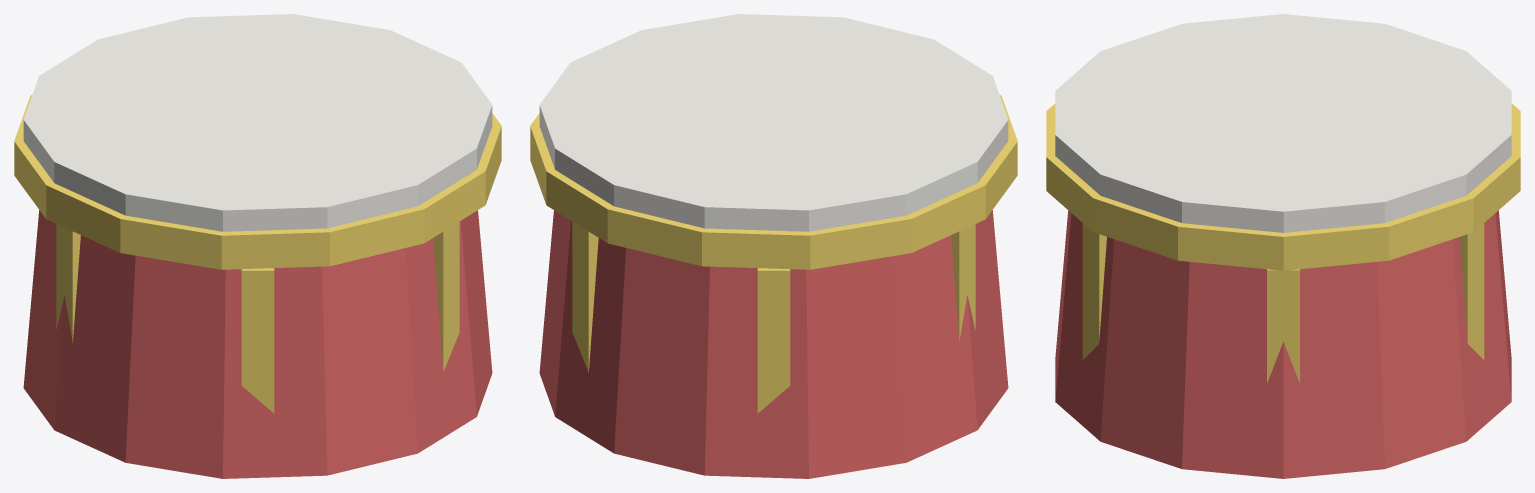
File: travelling-circus-and-big-top-circus-pedestal-c0e56fe4__36253.glb
The picture shows the model from 3 angles, left to right: view 1: azimuth 30°, elevation 25°; view 2: azimuth 150°, elevation 25°; view 3: azimuth 270°, elevation 25°; orthographic projection.
Parts seen in each view (by area): view 1: circus-pedestal-stripe, circus-pedestal-canvas, circus-pedestal-gold; view 2: circus-pedestal-stripe, circus-pedestal-canvas, circus-pedestal-gold; view 3: circus-pedestal-stripe, circus-pedestal-canvas, circus-pedestal-gold.
Boxes of the visible parts, left/top/right/bottom form: circus-pedestal-stripe: left=23, top=210, right=492, bottom=478; circus-pedestal-canvas: left=23, top=14, right=492, bottom=231; circus-pedestal-gold: left=14, top=95, right=501, bottom=413; circus-pedestal-stripe: left=539, top=210, right=1008, bottom=478; circus-pedestal-canvas: left=539, top=14, right=1008, bottom=231; circus-pedestal-gold: left=530, top=95, right=1017, bottom=413; circus-pedestal-stripe: left=1055, top=210, right=1511, bottom=478; circus-pedestal-canvas: left=1055, top=14, right=1511, bottom=232; circus-pedestal-gold: left=1046, top=103, right=1520, bottom=383.
Bounding box in the file's own units: 1.04 × 0.6301 × 1.01.
